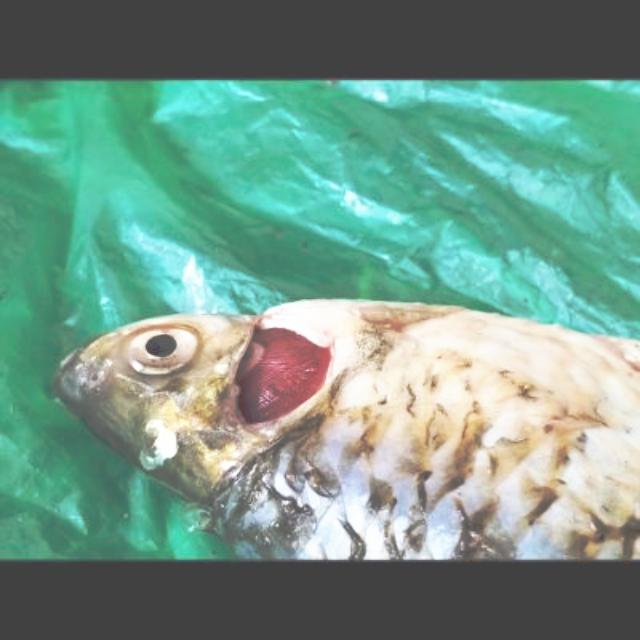Flavobacterium -Bacterial Gill Disease-: (56, 299, 640, 565), (59, 299, 638, 558)
